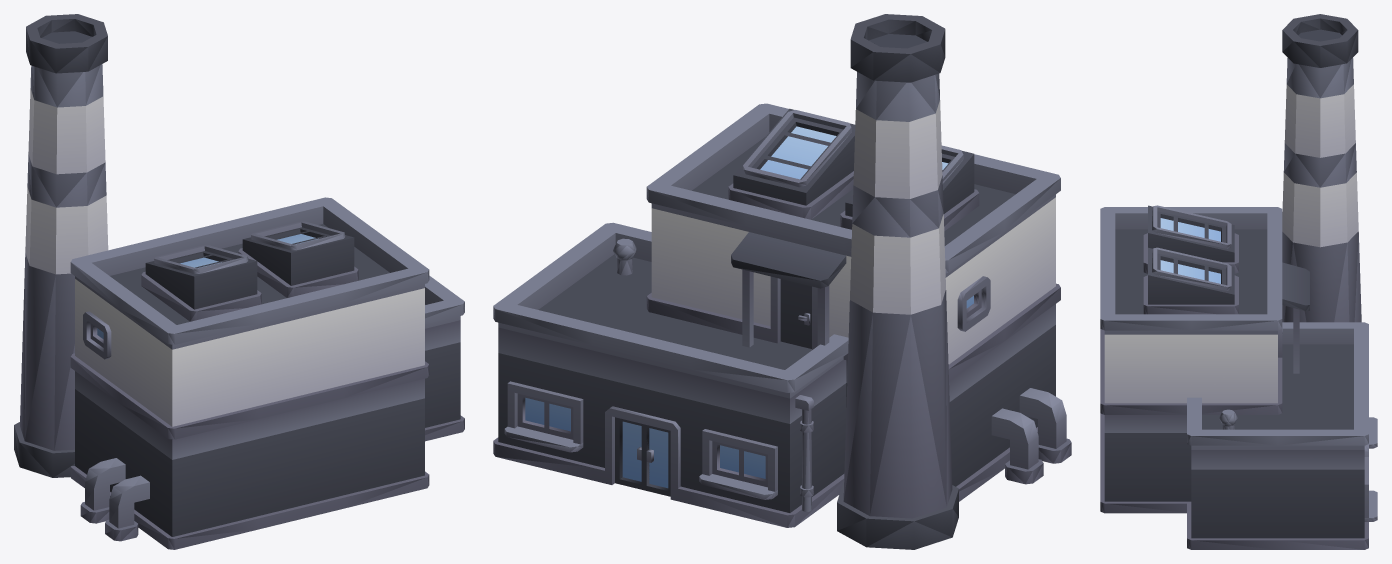
Rendered from ki_building_f.fbx.
3 views of the same model, side by side, from view 1: azimuth 30°, elevation 25°; view 2: azimuth 150°, elevation 25°; view 3: azimuth 270°, elevation 25° (orthographic). The views are drawn at different scales.
Parts seen in each view (by area): view 1: ki_building_f_LOD0; view 2: ki_building_f_LOD0; view 3: ki_building_f_LOD0.
Boxes of the visible parts, x1,y1,x2,y2 form: ki_building_f_LOD0: (14, 14, 464, 549); ki_building_f_LOD0: (493, 14, 1071, 549); ki_building_f_LOD0: (1100, 14, 1377, 549).
Size of what is drawn, in the model's own units: 15.22 by 16.36 by 10.88.
